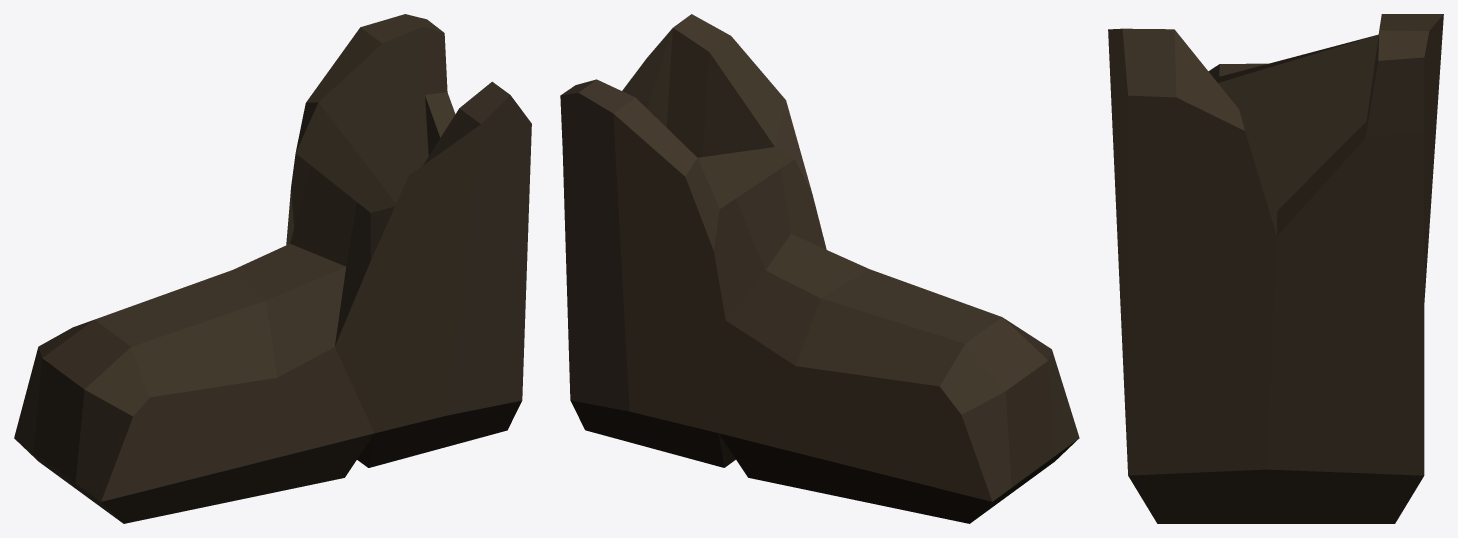
Rendered from boot1 fbx.fbx.
The picture shows the model from 3 angles, left to right: view 1: azimuth 30°, elevation 25°; view 2: azimuth 150°, elevation 25°; view 3: azimuth 270°, elevation 25°; orthographic projection. The views are drawn at different scales.
Visible parts, largest first — view 1: polySurface7; view 2: polySurface7; view 3: polySurface7.
Part boxes in pixels (x1,y1,x2,y2): polySurface7: (14, 14, 531, 523); polySurface7: (560, 14, 1079, 523); polySurface7: (1108, 14, 1443, 523).
Size of the model in its own units: 1.59 by 1.26 by 0.7644.
